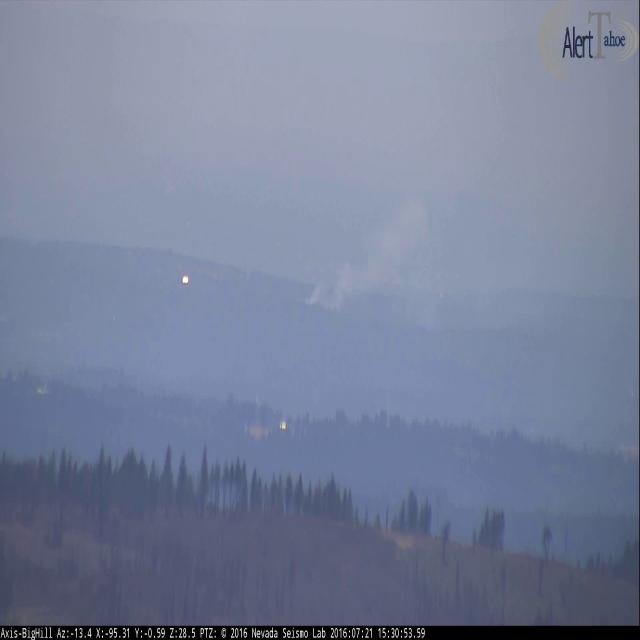smoke: (302, 201, 539, 331)
